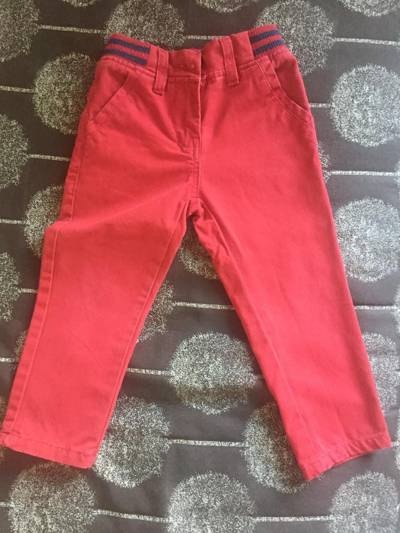Pants: (4, 27, 382, 493)
